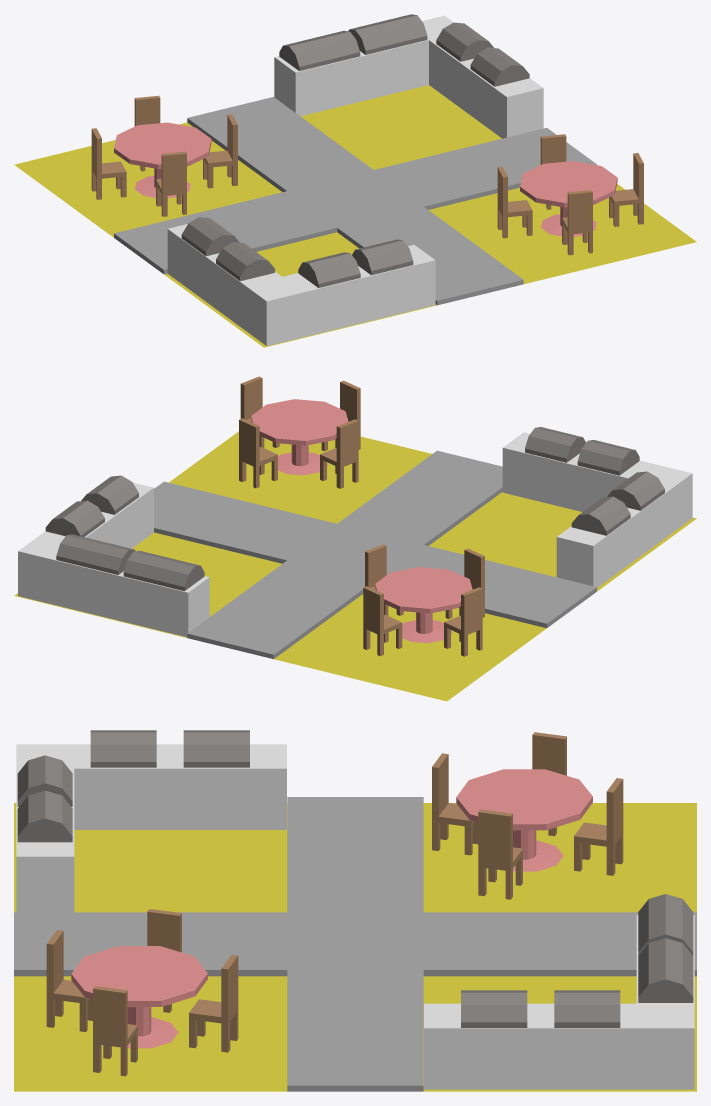
The model's file is Room 3 - Dining Draft - New.fbx.
3 views of the same model, one above another, from view 1: azimuth 30°, elevation 25°; view 2: azimuth 150°, elevation 25°; view 3: azimuth 270°, elevation 25° (orthographic). The views are drawn at different scales.
Visible parts, largest first — view 1: pPlane1, pCube1 (×2), Table (×2), pCylinder2 (×2), pCylinder3 (×2), Chair1 (×2), pCylinder5 (×2), pCylinder4 (×2), Chair3 (×2), Chair (×2), Chair2 (×2); view 2: pPlane1, pCube1 (×2), Table (×2), pCylinder2 (×2), pCylinder3 (×2), Chair2 (×2), Chair3 (×2), pCylinder5 (×2), pCylinder4 (×2), Chair (×2), Chair1 (×2); view 3: pPlane1, pCube1 (×2), Table (×2), Chair (×2), pCylinder3 (×2), Chair2 (×2), pCylinder2 (×2), pCylinder5 (×2), pCylinder4 (×2), Chair1 (×2), Chair3 (×2).
Boxes of the visible parts, <box> form: pPlane1: <box>14,85,696,347</box>; pCube1 (×2): <box>167,15,543,345</box>; Table (×2): <box>114,122,617,236</box>; pCylinder2 (×2): <box>279,30,413,275</box>; pCylinder3 (×2): <box>298,14,427,287</box>; Chair1 (×2): <box>156,151,592,255</box>; pCylinder5 (×2): <box>181,47,529,256</box>; pCylinder4 (×2): <box>216,22,493,281</box>; Chair3 (×2): <box>91,128,532,238</box>; Chair (×2): <box>203,114,643,226</box>; Chair2 (×2): <box>134,95,566,209</box>; pPlane1: <box>14,431,696,701</box>; pCube1 (×2): <box>18,432,692,637</box>; Table (×2): <box>251,399,472,643</box>; pCylinder2 (×2): <box>123,427,585,591</box>; pCylinder3 (×2): <box>56,440,639,574</box>; Chair2 (×2): <box>239,418,402,656</box>; Chair3 (×2): <box>320,419,482,656</box>; pCylinder5 (×2): <box>81,475,630,535</box>; pCylinder4 (×2): <box>45,471,664,536</box>; Chair (×2): <box>240,376,403,615</box>; Chair1 (×2): <box>321,380,484,618</box>; pPlane1: <box>14,797,696,1091</box>; pCube1 (×2): <box>16,744,694,1089</box>; Table (×2): <box>71,769,592,1048</box>; Chair (×2): <box>93,809,522,1076</box>; pCylinder3 (×2): <box>17,755,693,1002</box>; Chair2 (×2): <box>189,778,623,1052</box>; pCylinder2 (×2): <box>17,790,693,955</box>; pCylinder5 (×2): <box>183,730,527,1027</box>; pCylinder4 (×2): <box>90,730,620,1027</box>; Chair1 (×2): <box>46,753,478,1031</box>; Chair3 (×2): <box>147,732,566,1012</box>.
Bounding box in the file's own units: 10 × 1.41 × 10.
